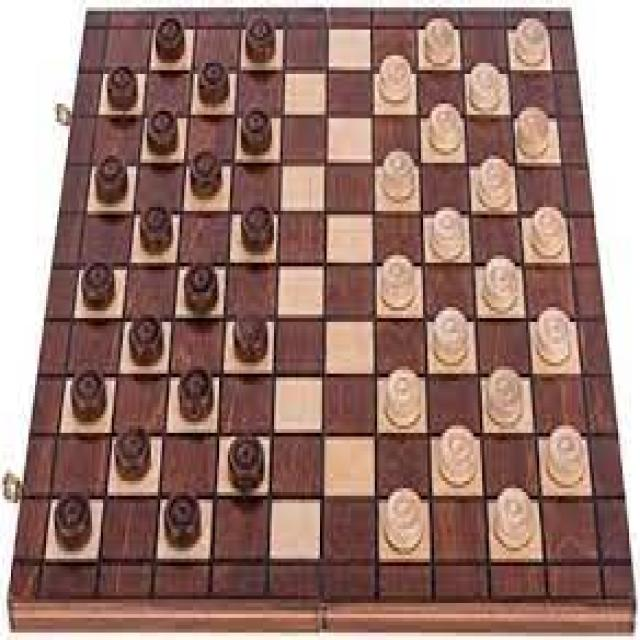dammen: (6, 6, 635, 634)
